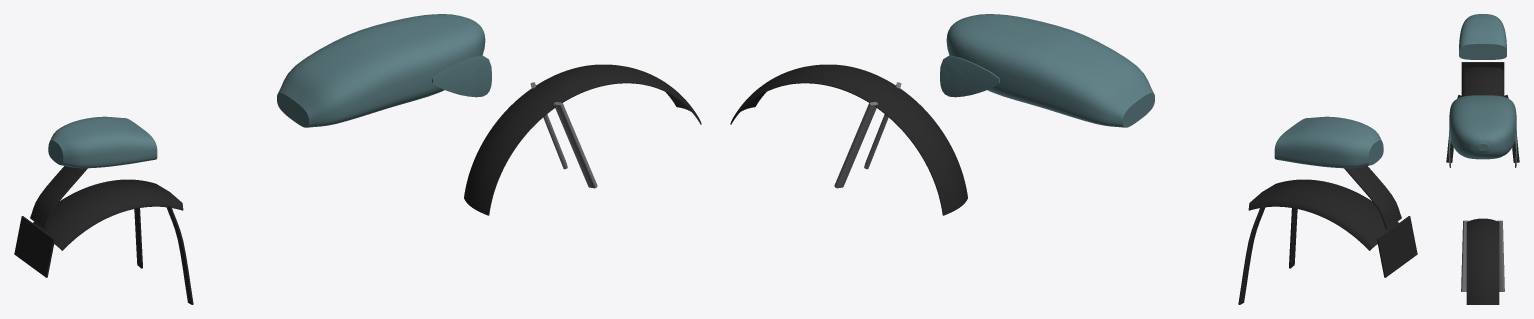
The model's file is bike_electric__bodywork.glb.
3 views of the same model, side by side, from view 1: azimuth 30°, elevation 25°; view 2: azimuth 150°, elevation 25°; view 3: azimuth 270°, elevation 25° (orthographic). The views are drawn at different scales.
Visible parts, largest first — view 1: frame_body__tank_cover, frame_body__front_mudguard, frame_body__rear_hugger, frame_body__tail_cowl, frame_body__number_plate_bracket, frame_body__side_scoops__left, frame_body__front_mudguard__brackets; view 2: frame_body__tank_cover, frame_body__front_mudguard, frame_body__rear_hugger, frame_body__tail_cowl, frame_body__number_plate_bracket, frame_body__side_scoops__right, frame_body__front_mudguard__brackets; view 3: frame_body__tank_cover, frame_body__front_mudguard, frame_body__tail_cowl, frame_body__rear_hugger, frame_body__front_mudguard__brackets, frame_body__number_plate_bracket, frame_body__side_scoops__left, frame_body__side_scoops__right.
Part boxes in pixels (bbox=[...]): frame_body__tank_cover: bbox=[277, 14, 485, 127]; frame_body__front_mudguard: bbox=[464, 64, 701, 215]; frame_body__rear_hugger: bbox=[33, 179, 193, 304]; frame_body__tail_cowl: bbox=[48, 116, 157, 168]; frame_body__number_plate_bracket: bbox=[14, 166, 87, 277]; frame_body__side_scoops__left: bbox=[432, 55, 491, 97]; frame_body__front_mudguard__brackets: bbox=[530, 82, 597, 188]; frame_body__tank_cover: bbox=[946, 14, 1154, 127]; frame_body__front_mudguard: bbox=[730, 64, 967, 215]; frame_body__rear_hugger: bbox=[1238, 179, 1398, 304]; frame_body__tail_cowl: bbox=[1274, 116, 1383, 168]; frame_body__number_plate_bracket: bbox=[1344, 166, 1417, 277]; frame_body__side_scoops__right: bbox=[940, 55, 999, 97]; frame_body__front_mudguard__brackets: bbox=[834, 82, 901, 188]; frame_body__tank_cover: bbox=[1449, 95, 1516, 159]; frame_body__front_mudguard: bbox=[1466, 218, 1499, 304]; frame_body__tail_cowl: bbox=[1459, 14, 1506, 59]; frame_body__rear_hugger: bbox=[1446, 67, 1519, 162]; frame_body__front_mudguard__brackets: bbox=[1461, 220, 1504, 291]; frame_body__number_plate_bracket: bbox=[1461, 62, 1504, 70]; frame_body__side_scoops__left: bbox=[1448, 130, 1450, 167]; frame_body__side_scoops__right: bbox=[1515, 130, 1517, 167].
Bounding box in the file's own units: 203 × 56.94 × 29.17.
